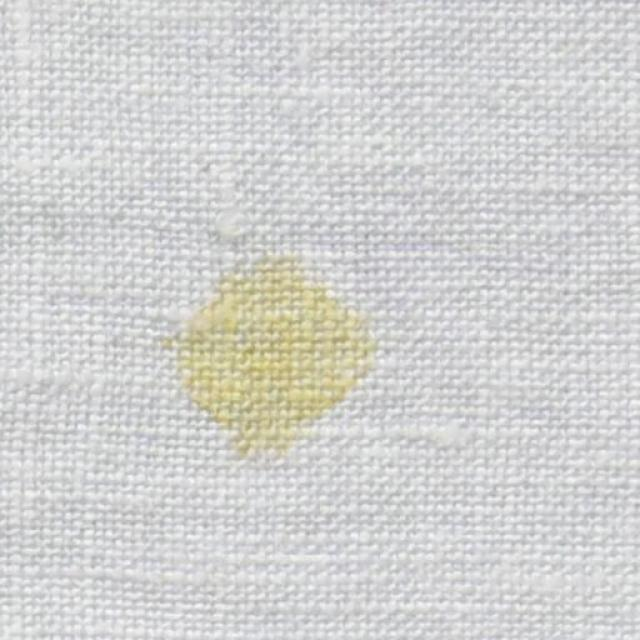Stain: (164, 241, 374, 464)
